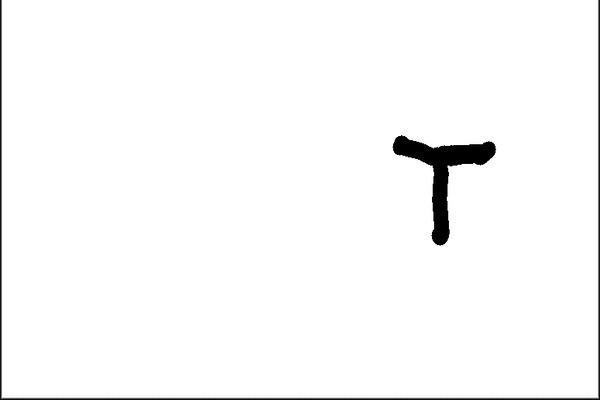T: (389, 126, 503, 245)
